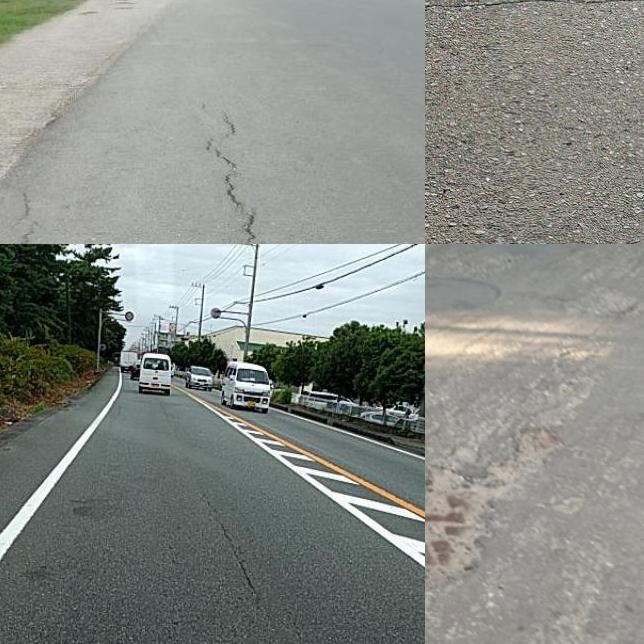Lubang: (425, 473, 493, 587)
Melintang: (425, 0, 644, 23)
Memanjang: (194, 84, 271, 244), (182, 484, 263, 597)
